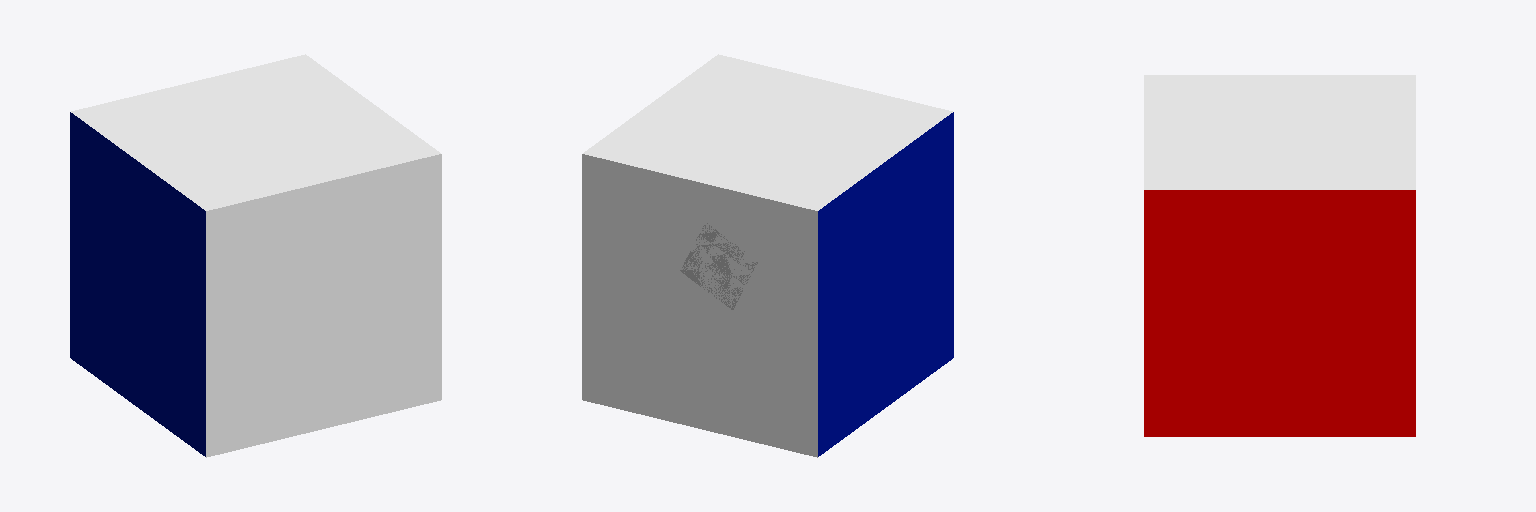
The model's file is scene_subdivide_2.obj.
The picture shows the model from 3 angles: view 1: azimuth 30°, elevation 25°; view 2: azimuth 150°, elevation 25°; view 3: azimuth 270°, elevation 25°; orthographic projection.
Visible parts, largest first — view 1: Cube; view 2: Cube; view 3: Cube.
Boxes of the visible parts, x1=… form: Cube: x1=70, y1=54, x2=441, y2=457; Cube: x1=582, y1=54, x2=953, y2=457; Cube: x1=1144, y1=75, x2=1415, y2=436.
Size of the model in its own units: 4 by 4 by 4.